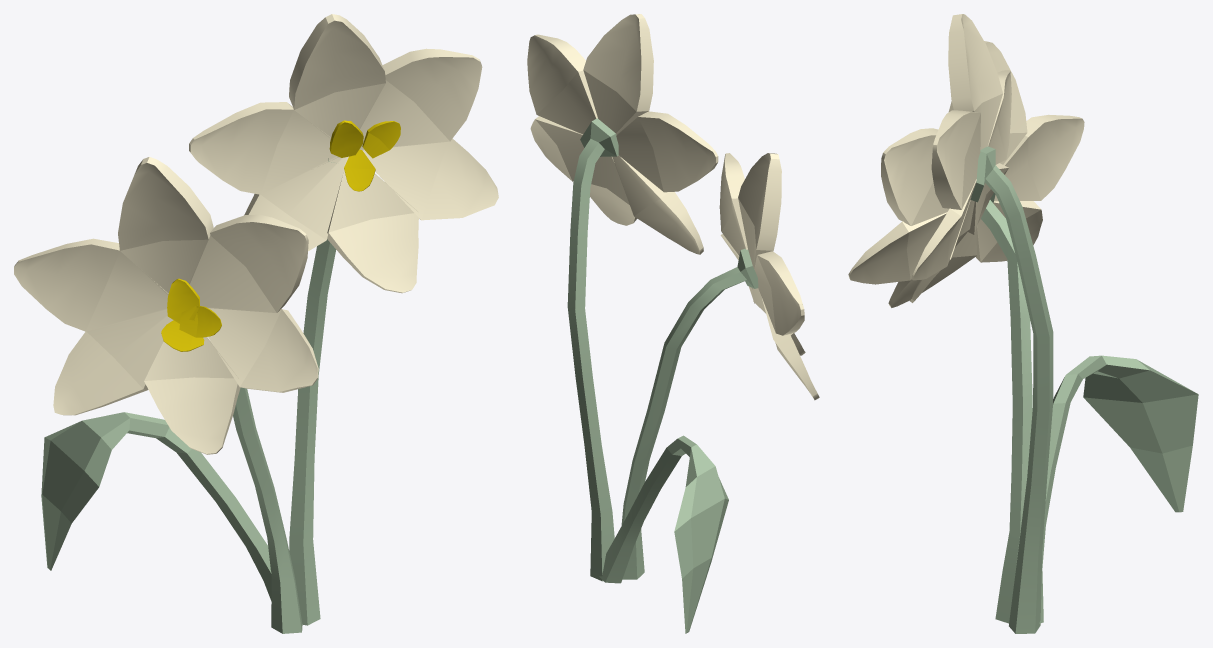
File: Daffodil.fbx
3 renders of one model, left to right at view 1: azimuth 30°, elevation 25°; view 2: azimuth 150°, elevation 25°; view 3: azimuth 270°, elevation 25°, orthographic. The views are drawn at different scales.
Parts seen in each view (by area): view 1: DaffodilPetalBase, Daffodil1Stem, DaffodilPollen; view 2: DaffodilPetalBase, Daffodil1Stem; view 3: Daffodil1Stem, DaffodilPetalBase.
Boxes of the visible parts, <box> form: DaffodilPetalBase: <box>14,14,498,454</box>; Daffodil1Stem: <box>41,158,336,633</box>; DaffodilPollen: <box>161,120,400,351</box>; DaffodilPetalBase: <box>527,14,819,400</box>; Daffodil1Stem: <box>567,118,758,633</box>; Daffodil1Stem: <box>970,146,1198,633</box>; DaffodilPetalBase: <box>848,14,1084,307</box>.
Size of the model in its own units: 9.35 by 14.12 by 7.29.
